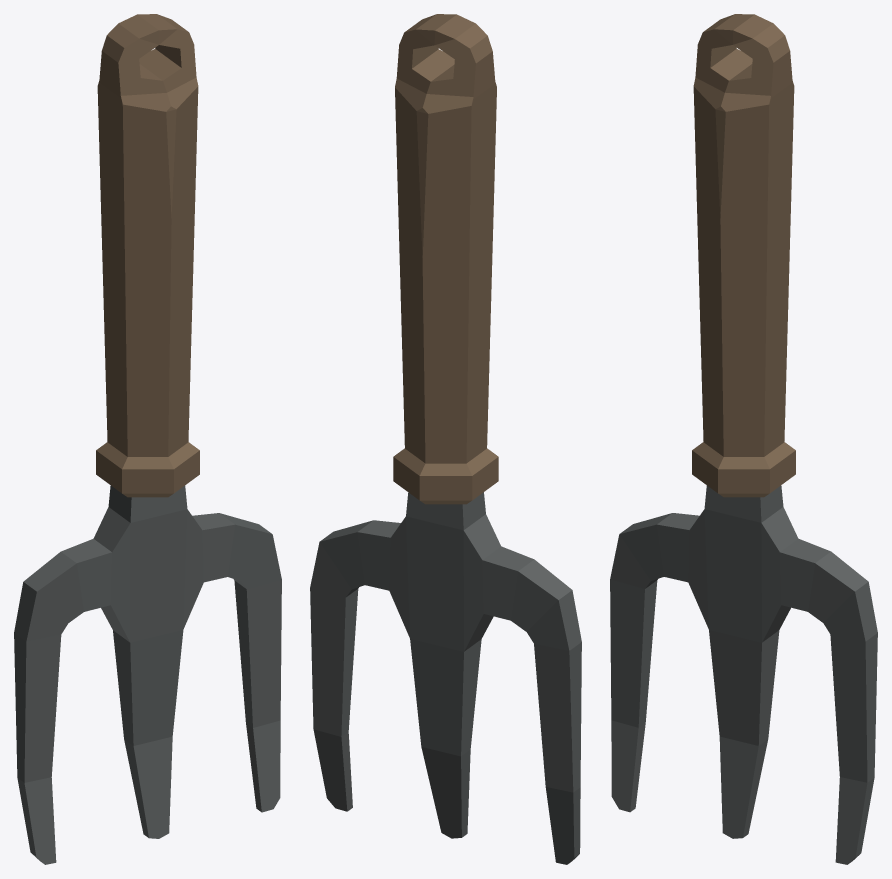
Rendered from SM_Props_Farm_Tool_HandFork.fbx.
3 renders of one model, left to right at view 1: azimuth 30°, elevation 25°; view 2: azimuth 150°, elevation 25°; view 3: azimuth 330°, elevation 25°, orthographic.
Parts seen in each view (by area): view 1: SM_Props_Farm_Tool_HandFork; view 2: SM_Props_Farm_Tool_HandFork; view 3: SM_Props_Farm_Tool_HandFork.
Boxes of the visible parts, <box> form: SM_Props_Farm_Tool_HandFork: <box>14,14,281,864</box>; SM_Props_Farm_Tool_HandFork: <box>310,14,581,864</box>; SM_Props_Farm_Tool_HandFork: <box>610,14,877,864</box>.
Size of the model in its own units: 17.92 by 54.04 by 6.29.
